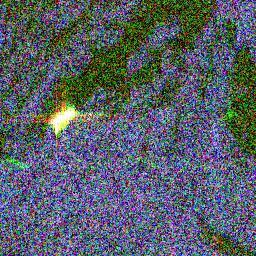Ship: (42, 104, 91, 138)
